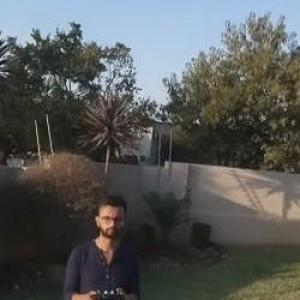follow: (50, 188, 138, 299)
